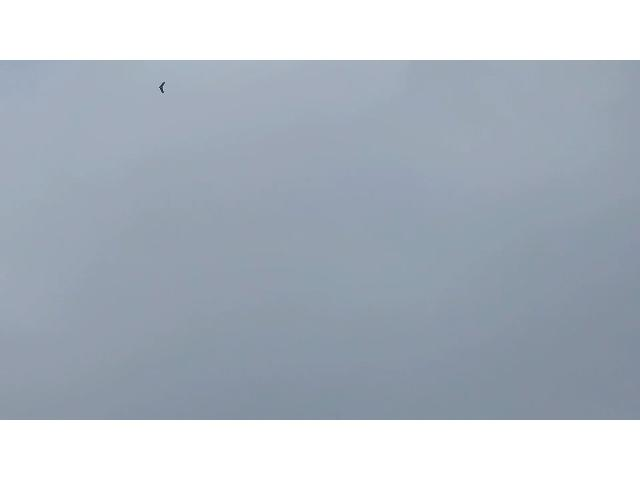Anti-Drone: (158, 82, 166, 94)
